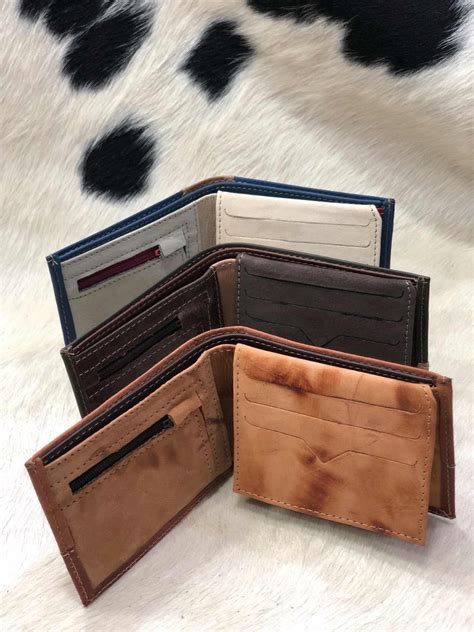cuero: (24, 180, 460, 608)
